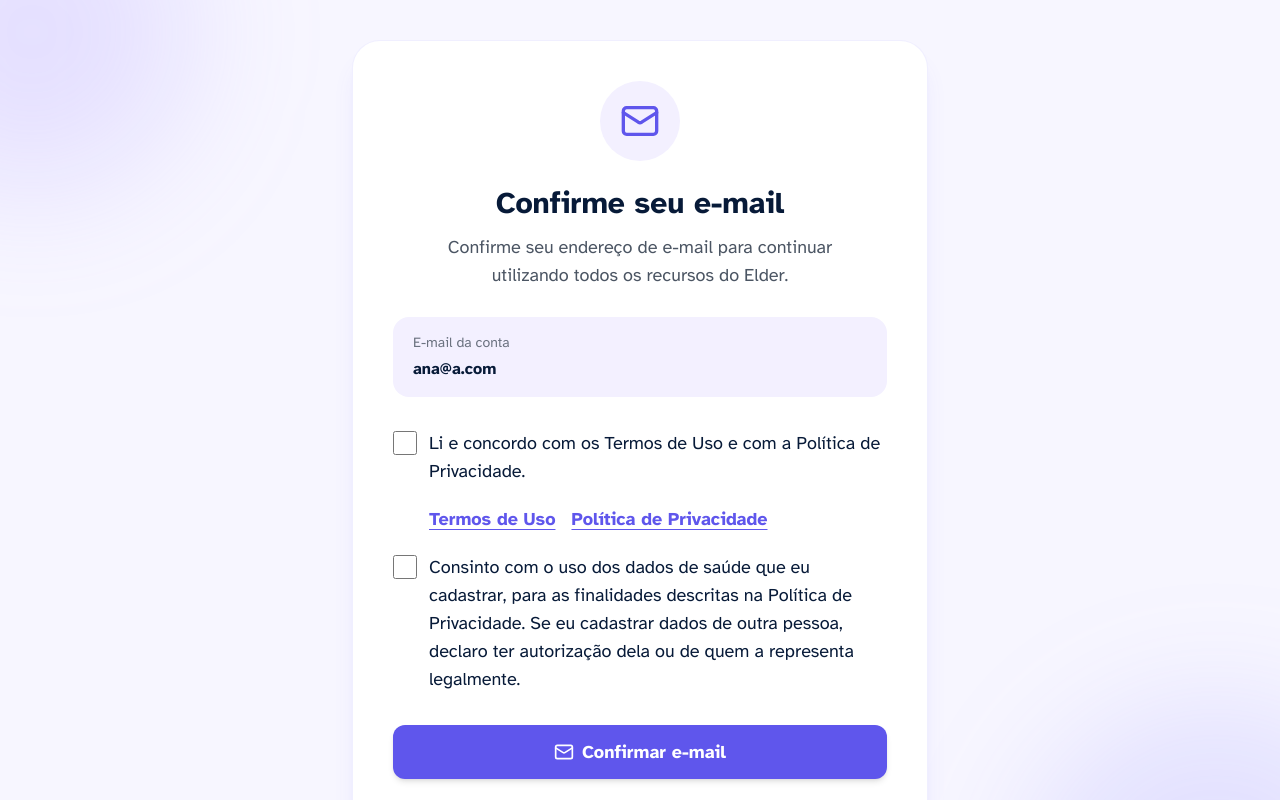
Test: ConfirmarEmail (acessibilidade) › sucesso: tem h1 e não tem violações detectáveis pelo axe
Click the 1st checkbox.
click(405, 443)  # box [393,431,417,455]
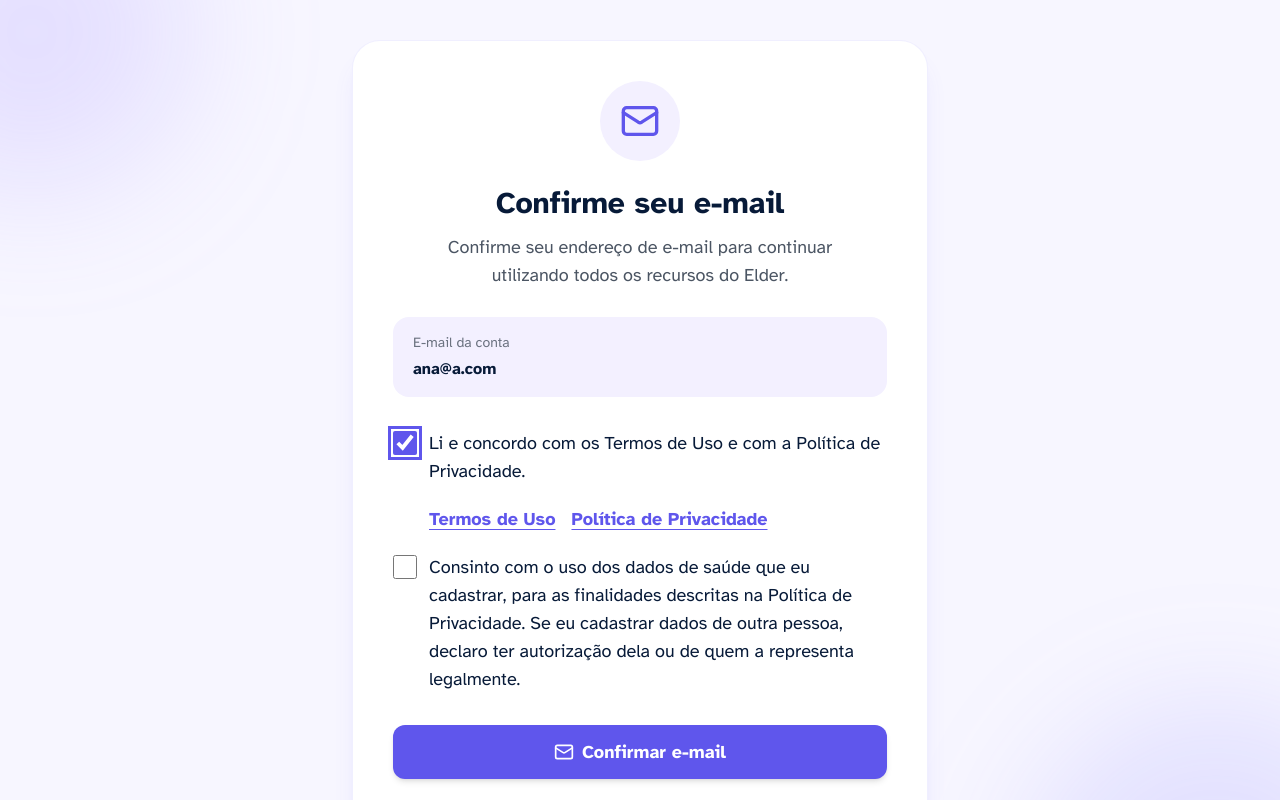
Click the 2nd checkbox.
click(405, 567)  # box [393,555,417,579]
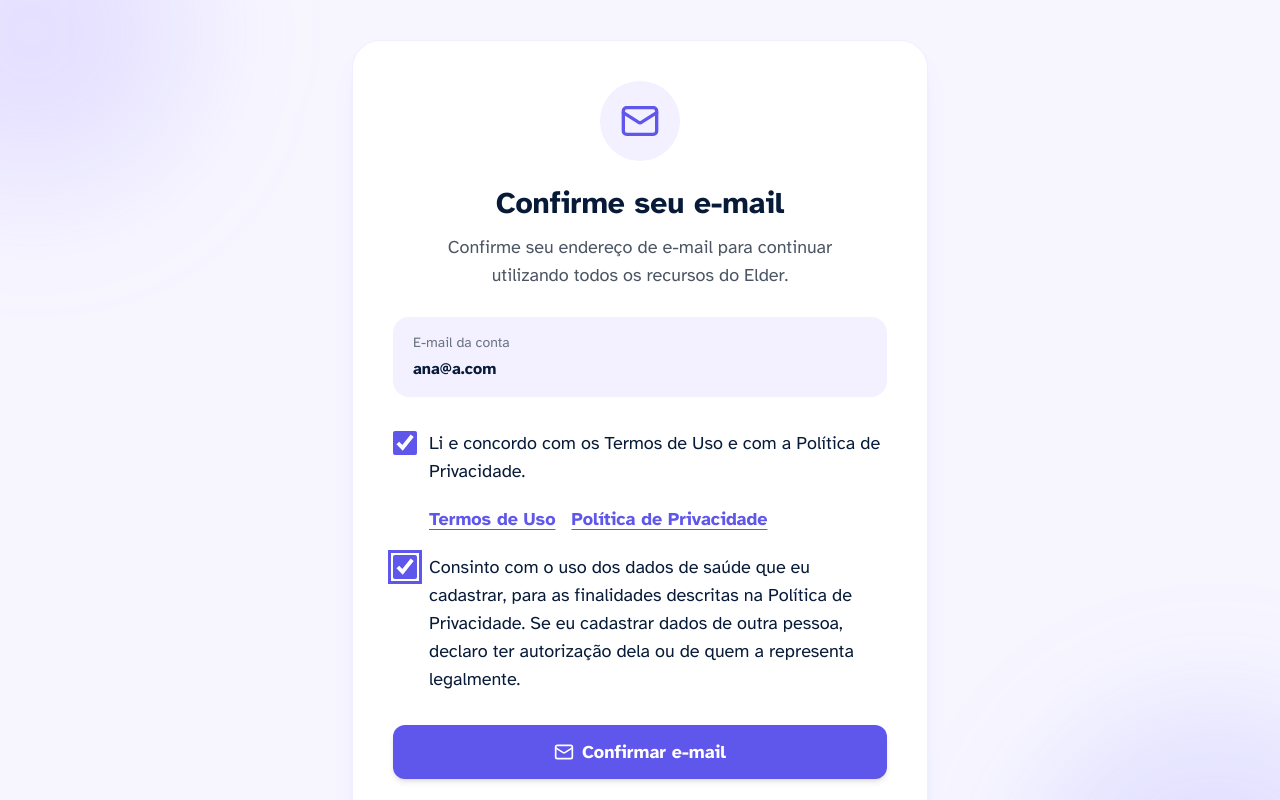
Click the button "Confirmar e-mail".
click(640, 752)  # box [393,725,887,779]
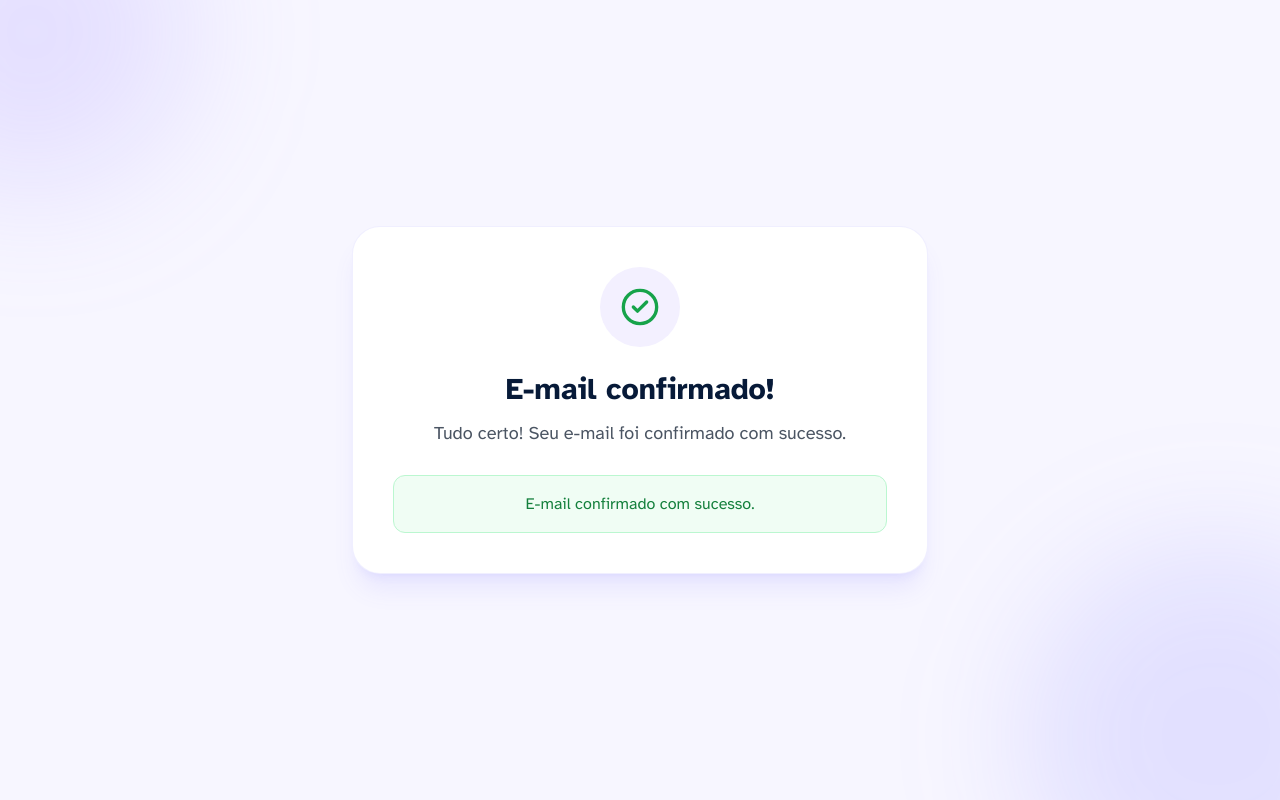
Expected: the heading "E-mail confirmado!" is shown, [506,370,774,408]
Now the message shows "confirmado com sucesso", box [526,494,754,514]
